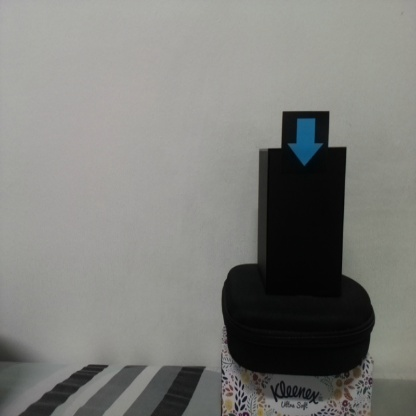id_2: (282, 111, 329, 175)
